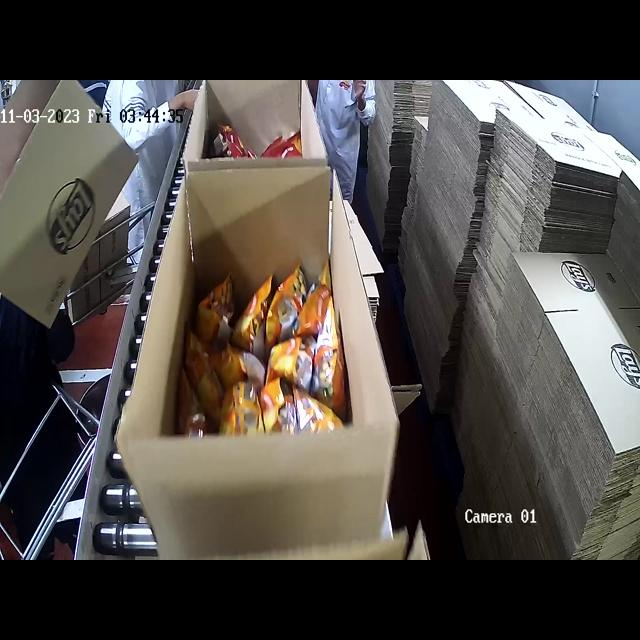cheese: (186, 229, 346, 434)
masala: (209, 122, 306, 168)
